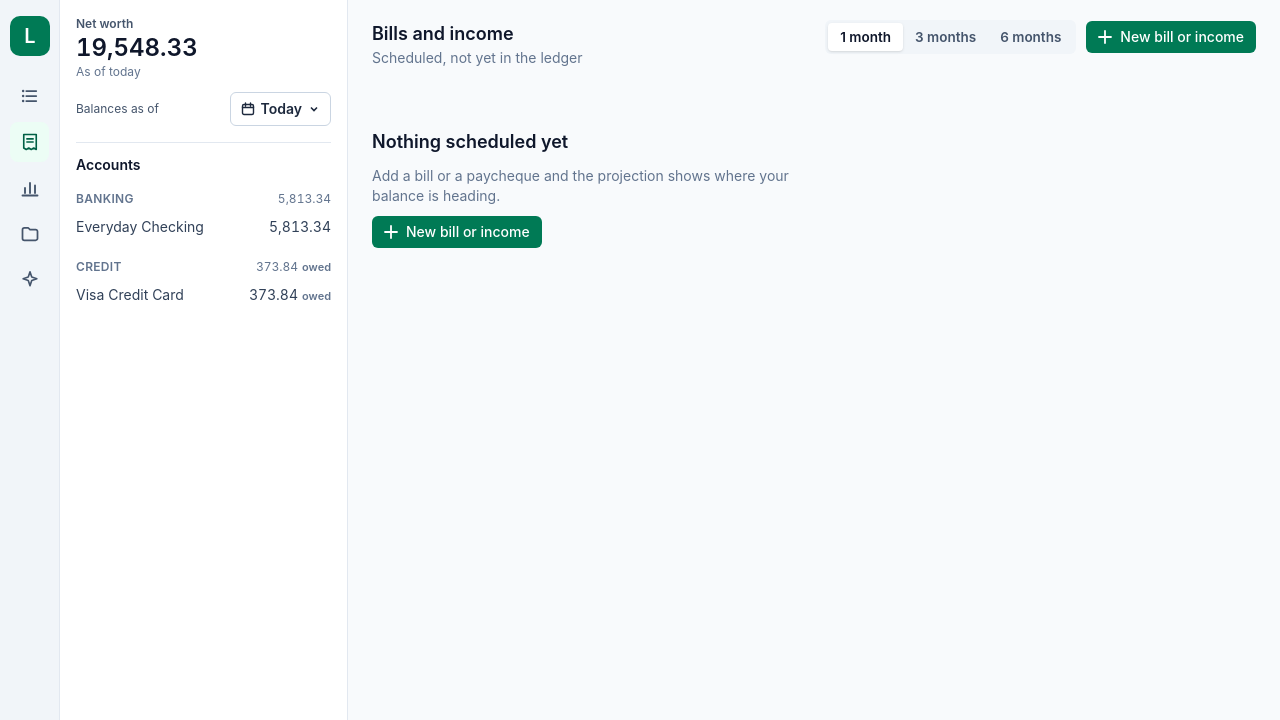
Test: empty and loading › explains what scheduling buys, and offers the header’s action
The width and height of the screenshot is (1280, 720).
Check: the heading "Nothing scheduled yet" is shown, box [372,128,568,156]
Check: the text "Add a bill or a paycheque and the projection shows where your balance is heading." is shown, box [372,167,789,204]
Click the button "New bill or income" below "Nothing scheduled yet": (457, 232) [372,216,542,248]
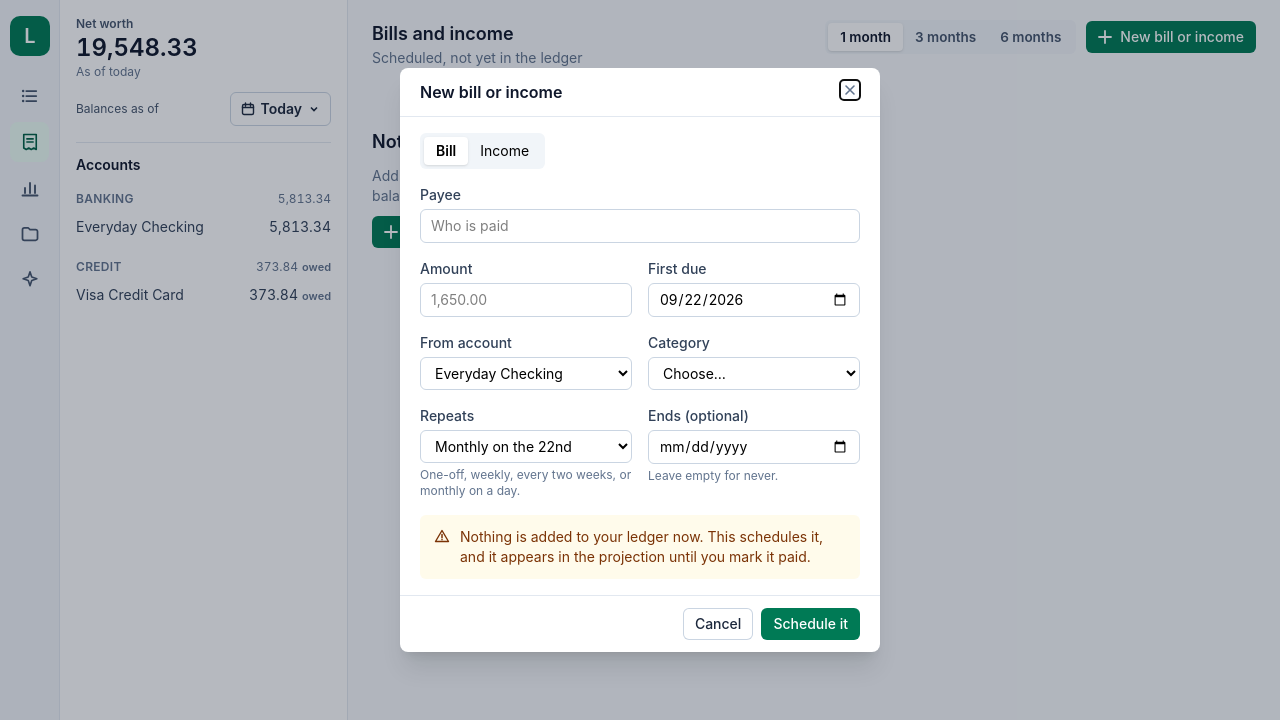
Check: the dialog is shown, box [400,68,880,652]
